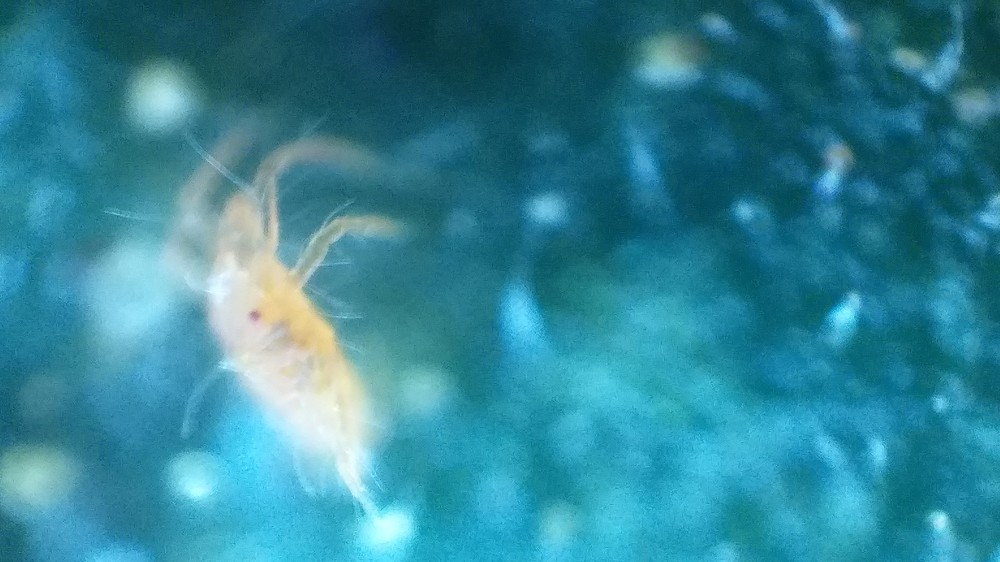Aracnido Rojo: (135, 124, 456, 513)
